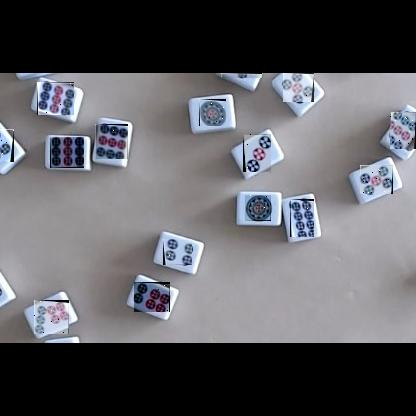1p: (199, 99, 226, 126), (245, 195, 271, 221)
3p: (243, 134, 271, 172)
4p: (163, 239, 192, 265), (0, 129, 14, 162)
5p: (360, 165, 393, 194), (283, 73, 314, 102)
6p: (134, 282, 170, 312)
7p: (34, 300, 69, 334), (221, 73, 262, 78)
8p: (290, 199, 314, 237)
9p: (37, 82, 74, 115), (95, 124, 128, 159), (50, 137, 84, 168), (390, 112, 416, 149)
